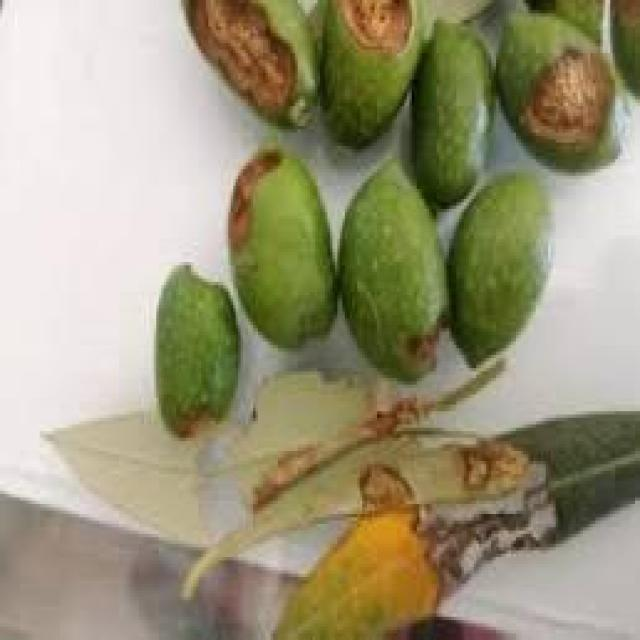Olive Fruit Fly: (340, 159, 444, 378), (228, 146, 335, 347), (496, 10, 615, 172), (184, 0, 315, 123), (320, 0, 427, 146)
